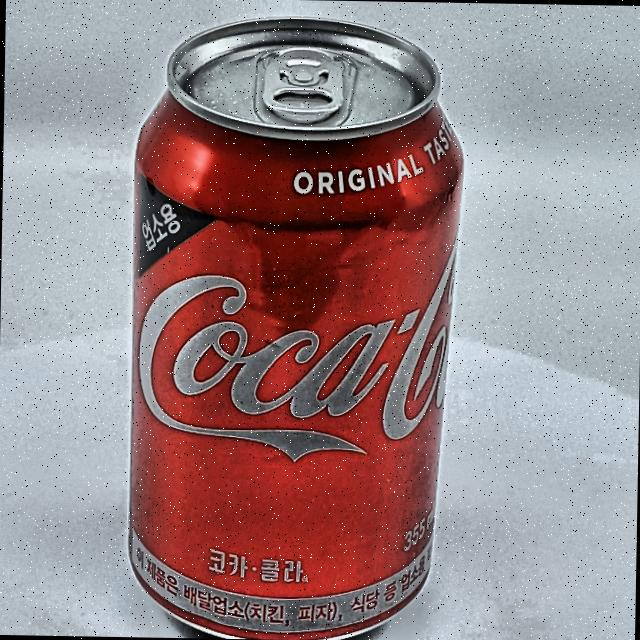cocacola: (105, 13, 456, 640)
